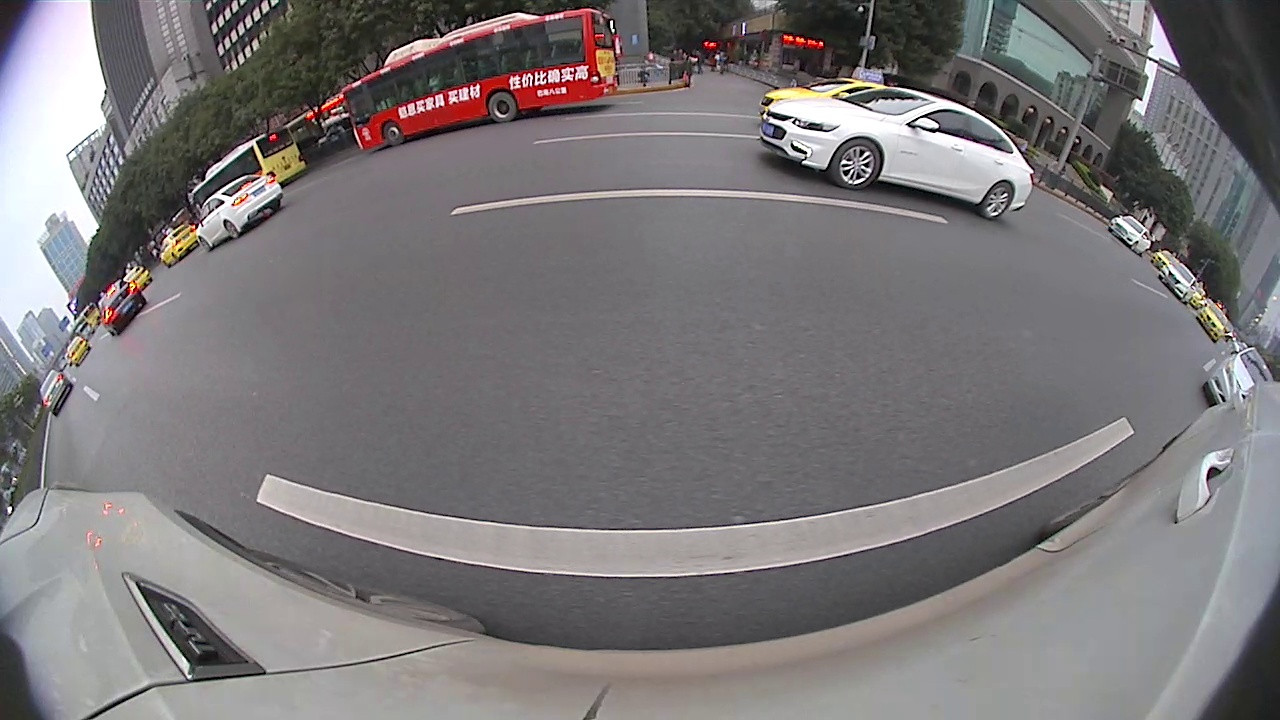bus: (1140, 205, 1277, 390)
car: (2, 185, 338, 509), (991, 216, 1226, 367), (722, 134, 859, 221), (931, 163, 1066, 245), (422, 156, 536, 222), (859, 166, 947, 230), (591, 143, 662, 201), (681, 158, 725, 190), (556, 159, 590, 190)
front: (273, 246, 329, 315), (999, 233, 1032, 270), (719, 178, 729, 202), (526, 183, 535, 203)
rear: (18, 416, 100, 506), (1133, 301, 1176, 349), (753, 174, 775, 216), (867, 196, 885, 221), (496, 189, 508, 213)
